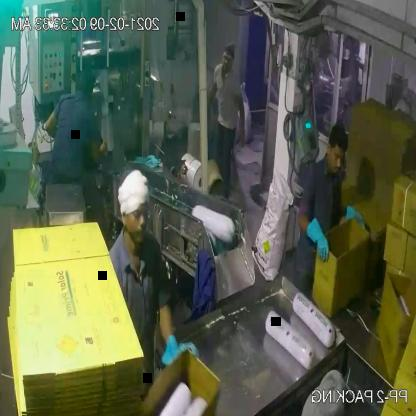glove: (154, 330, 209, 379), (301, 214, 335, 263), (342, 200, 368, 229)
no_glove: (231, 85, 255, 154), (85, 125, 116, 172)
